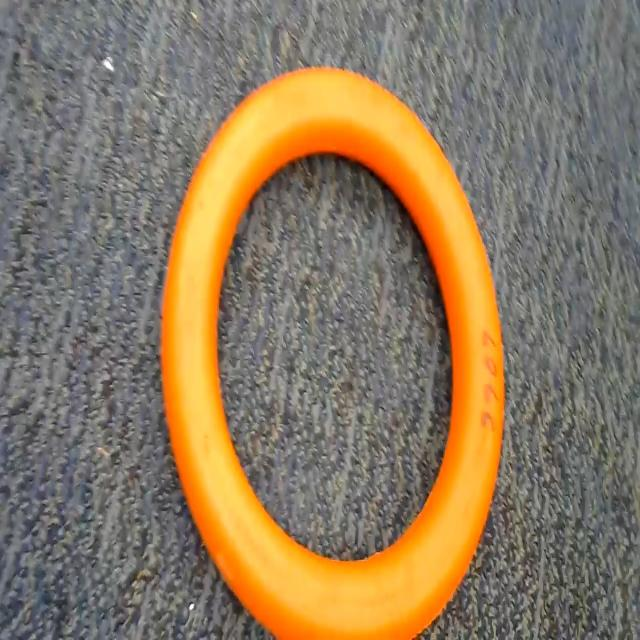note: (153, 48, 524, 640)
